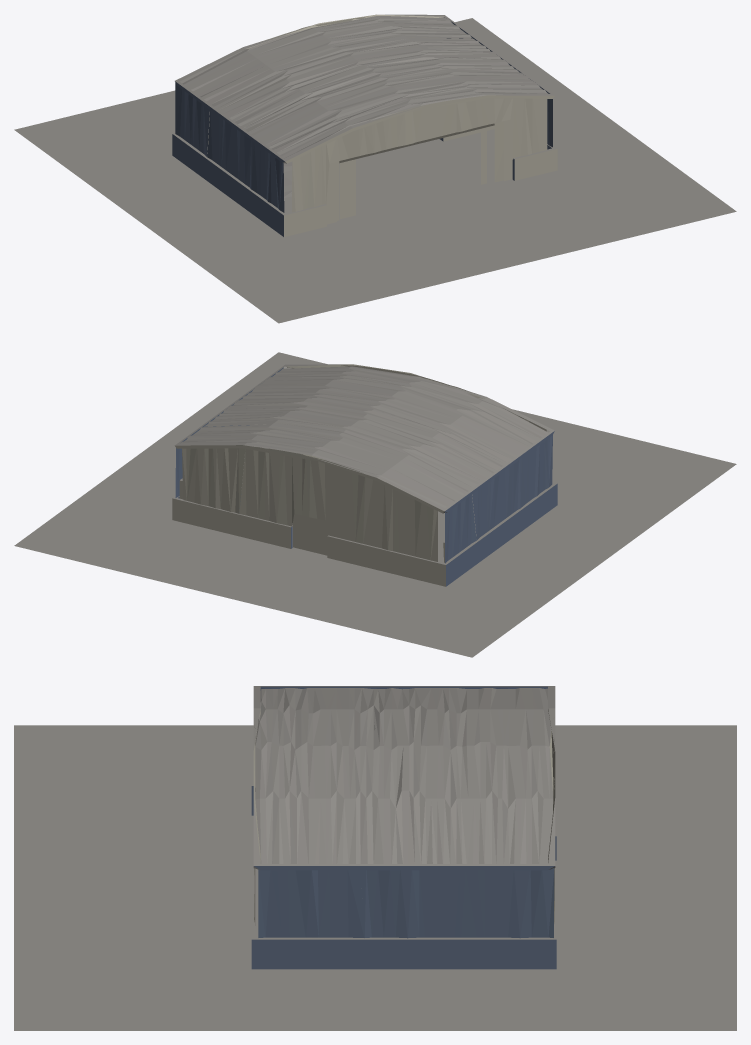
Rendered from hangar.far-facades-v3.lod2.glb.
3 renders of one model, top to bottom at view 1: azimuth 30°, elevation 25°; view 2: azimuth 150°, elevation 25°; view 3: azimuth 270°, elevation 25°, orthographic. The views are drawn at different scales.
Visible parts, largest first — view 1: hangar; view 2: hangar; view 3: hangar.
Part boxes in pixels (left/top/right/bottom): hangar: left=14, top=14, right=736, bottom=323; hangar: left=14, top=352, right=736, bottom=657; hangar: left=14, top=686, right=736, bottom=1030.
Size of the model in its own units: 62.35 by 12.66 by 62.35.
